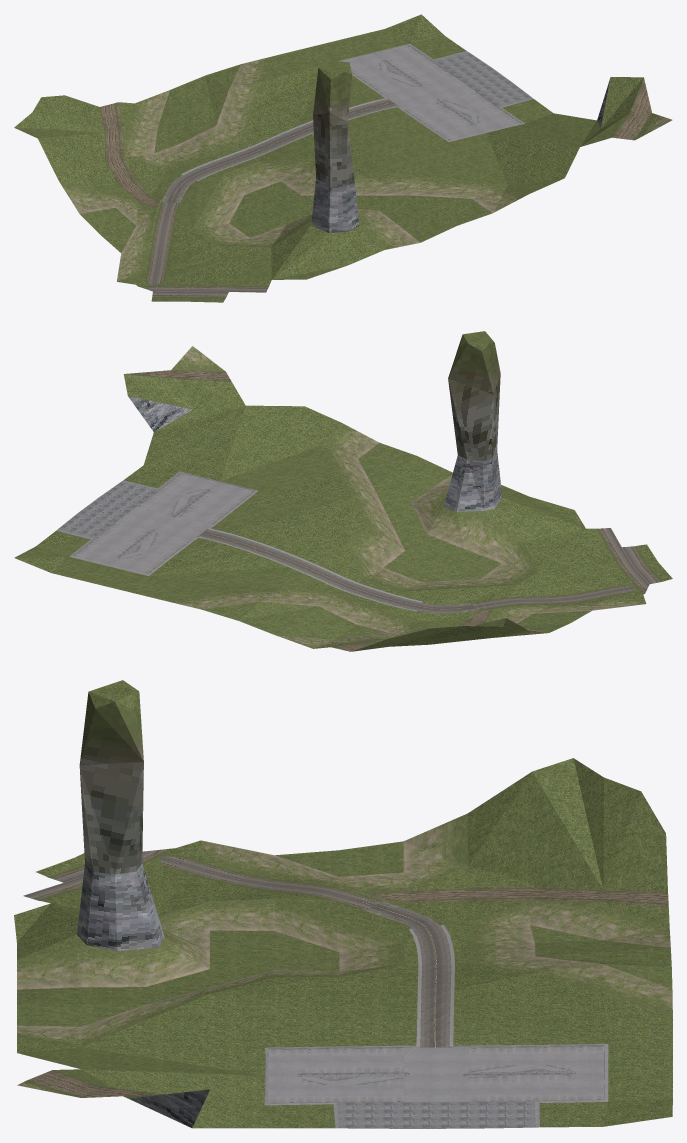
File: lod_n_bit_19.obj
3 views of the same model, one above another, from view 1: azimuth 30°, elevation 25°; view 2: azimuth 150°, elevation 25°; view 3: azimuth 270°, elevation 25° (orthographic). The views are drawn at different scales.
Parts seen in each view (by area): view 1: lod_n_bit_19; view 2: lod_n_bit_19; view 3: lod_n_bit_19.
Part boxes in pixels (bbox=[...]): lod_n_bit_19: bbox=[14, 14, 672, 302]; lod_n_bit_19: bbox=[14, 331, 672, 651]; lod_n_bit_19: bbox=[14, 680, 672, 1128].
Bounding box in the file's own units: 252 × 88.79 × 181.
Materials: 18 (18 with a texture image).
